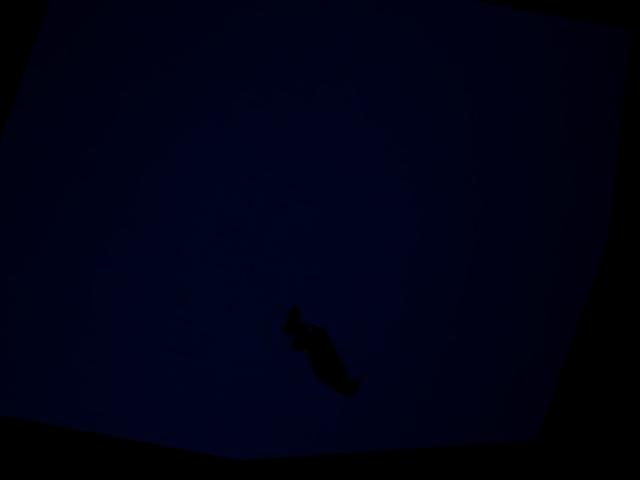uav: (267, 303, 396, 409)
